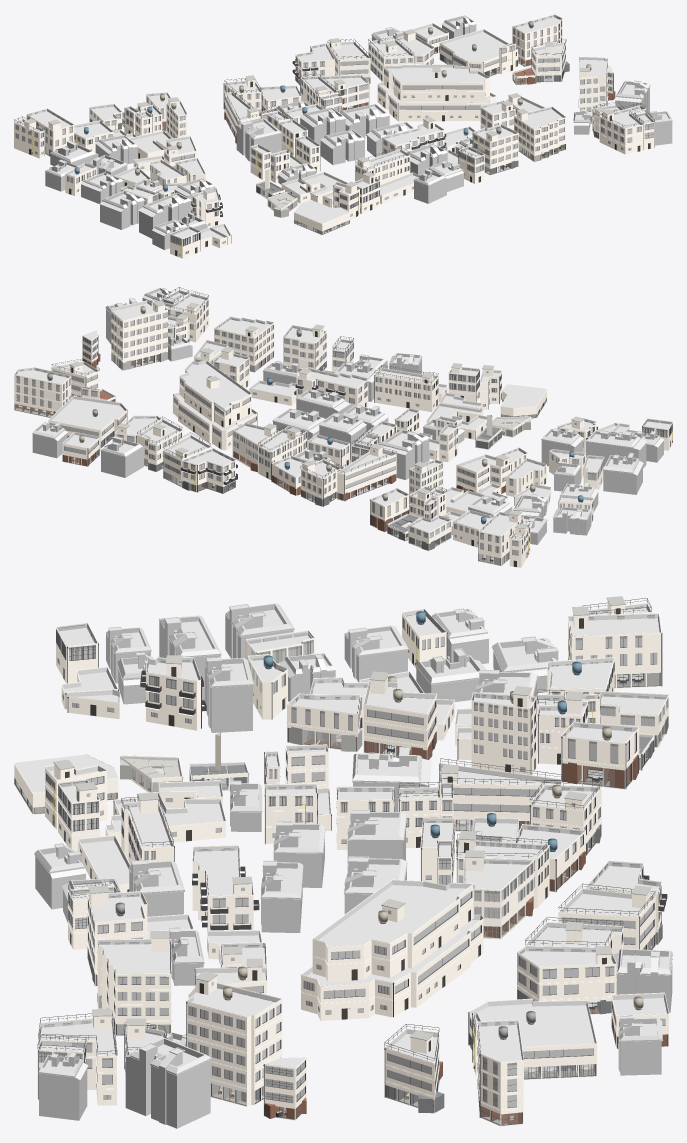
3 renders of one model, top to bottom at view 1: azimuth 30°, elevation 25°; view 2: azimuth 150°, elevation 25°; view 3: azimuth 270°, elevation 25°, orthographic. The views are drawn at different scales.
Parts seen in each view (by area): view 1: 서울특별시 성동구 성수동2가 561-1, 서울특별시 성동구 성수동2가 560-1, 서울특별시 성동구 성수동2가 566-30, 서울특별시 성동구 성수동2가 578-1, 서울특별시 성동구 성수동2가 559-4, 서울특별시 성동구 성수동2가 566-20, 서울특별시 성동구 성수동2가 576-2.001, 서울특별시 성동구 성수동2가 523, 서울특별시 성동구 성수동2가 539, 서울특별시 성동구 성수동2가 532-96, 서울특별시 성동구 성수동2가 532-50, 서울특별시 성동구 성수동2가 564-5 (+63 smaller); view 2: 서울특별시 성동구 성수동2가 561-1, 서울특별시 성동구 성수동2가 576-2.001, 서울특별시 성동구 성수동2가 566-30, 서울특별시 성동구 성수동2가 566-20, 서울특별시 성동구 성수동2가 554, 서울특별시 성동구 성수동2가 560-1, 서울특별시 성동구 성수동2가 532-95, 서울특별시 성동구 성수동2가 565-4, 서울특별시 성동구 성수동2가 564-5, 서울특별시 성동구 성수동2가 559-4, 서울특별시 성동구 성수동2가 532-38.001, 서울특별시 성동구 성수동2가 532-24 (+58 smaller); view 3: 서울특별시 성동구 성수동2가 561-1, 서울특별시 성동구 성수동2가 576-2.001, 서울특별시 성동구 성수동2가 566-30, 서울특별시 성동구 성수동2가 577-1, 서울특별시 성동구 성수동2가 560-1, 서울특별시 성동구 성수동2가 532-38.001, 서울특별시 성동구 성수동2가 565-8, 서울특별시 성동구 성수동2가 532-17, 서울특별시 성동구 성수동2가 532-95, 서울특별시 성동구 성수동2가 532-19, 서울특별시 성동구 성수동2가 566-20, 서울특별시 성동구 성수동2가 532-24 (+68 smaller).
Boxes of the visible parts, x1,y1,x2,y2 form: 서울특별시 성동구 성수동2가 561-1: [377, 64, 496, 121]; 서울특별시 성동구 성수동2가 560-1: [514, 106, 566, 161]; 서울특별시 성동구 성수동2가 566-30: [439, 29, 518, 76]; 서울특별시 성동구 성수동2가 578-1: [599, 102, 645, 154]; 서울특별시 성동구 성수동2가 559-4: [472, 124, 518, 175]; 서울특별시 성동구 성수동2가 566-20: [512, 14, 562, 66]; 서울특별시 성동구 성수동2가 576-2.001: [578, 56, 608, 123]; 서울특별시 성동구 성수동2가 523: [138, 192, 191, 238]; 서울특별시 성동구 성수동2가 539: [294, 200, 349, 235]; 서울특별시 성동구 성수동2가 532-96: [236, 118, 281, 161]; 서울특별시 성동구 성수동2가 532-50: [99, 190, 144, 229]; 서울특별시 성동구 성수동2가 564-5: [382, 123, 446, 154]; 서울특별시 성동구 성수동2가 561-1: [173, 360, 257, 450]; 서울특별시 성동구 성수동2가 576-2.001: [111, 300, 168, 370]; 서울특별시 성동구 성수동2가 566-30: [48, 396, 127, 448]; 서울특별시 성동구 성수동2가 566-20: [14, 367, 71, 417]; 서울특별시 성동구 성수동2가 554: [374, 365, 438, 411]; 서울특별시 성동구 성수동2가 560-1: [214, 316, 274, 372]; 서울특별시 성동구 성수동2가 532-95: [337, 448, 396, 501]; 서울특별시 성동구 성수동2가 565-4: [180, 448, 237, 493]; 서울특별시 성동구 성수동2가 564-5: [294, 368, 368, 408]; 서울특별시 성동구 성수동2가 559-4: [283, 325, 326, 370]; 서울특별시 성동구 성수동2가 532-38.001: [478, 511, 523, 566]; 서울특별시 성동구 성수동2가 532-24: [456, 454, 511, 494]; 서울특별시 성동구 성수동2가 561-1: [300, 879, 483, 1020]; 서울특별시 성동구 성수동2가 576-2.001: [186, 983, 282, 1106]; 서울특별시 성동구 성수동2가 566-30: [468, 998, 596, 1079]; 서울특별시 성동구 성수동2가 577-1: [124, 1037, 211, 1128]; 서울특별시 성동구 성수동2가 560-1: [97, 938, 171, 1035]; 서울특별시 성동구 성수동2가 532-38.001: [567, 613, 662, 688]; 서울특별시 성동구 성수동2가 565-8: [516, 946, 616, 1014]; 서울특별시 성동구 성수동2가 532-17: [471, 692, 536, 775]; 서울특별시 성동구 성수동2가 532-95: [439, 758, 561, 831]; 서울특별시 성동구 성수동2가 532-19: [560, 721, 639, 789]; 서울특별시 성동구 성수동2가 566-20: [477, 1019, 523, 1126]; 서울특별시 성동구 성수동2가 532-24: [363, 680, 437, 759].
Bounding box in the file's own units: 211 × 19.82 × 119.
